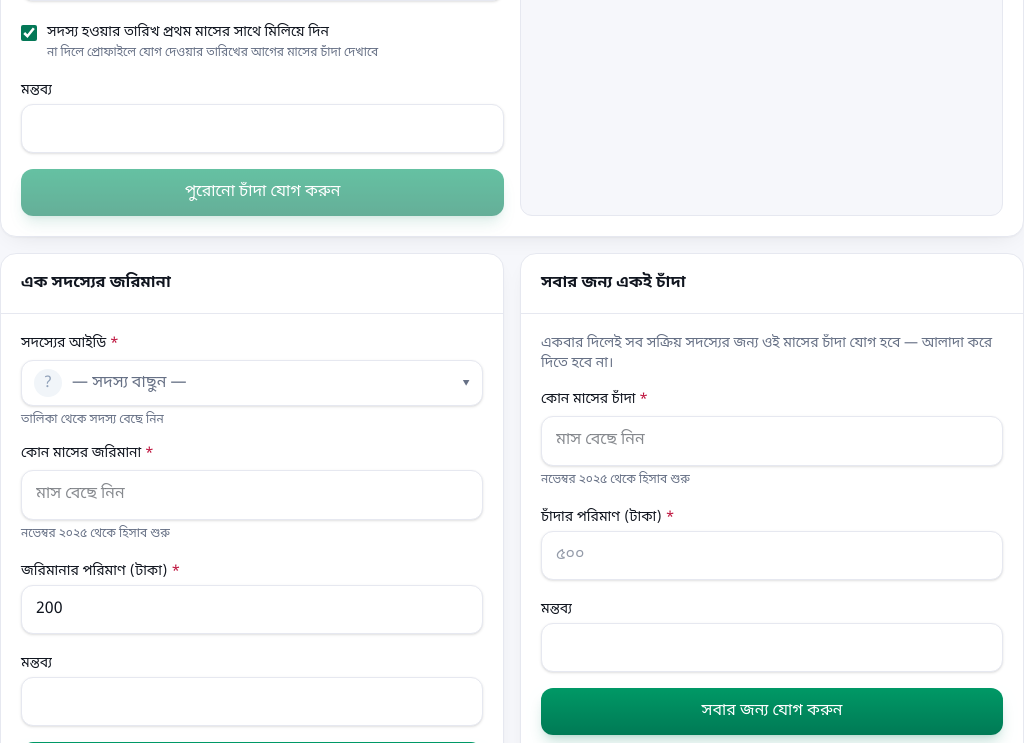
Test: historical import forms › lists every member, including deactivated ones
(page scrolled)
Click the dropdown named "সদস্যের আইডি".
click(129, 383)  # box [21,360,483,406]
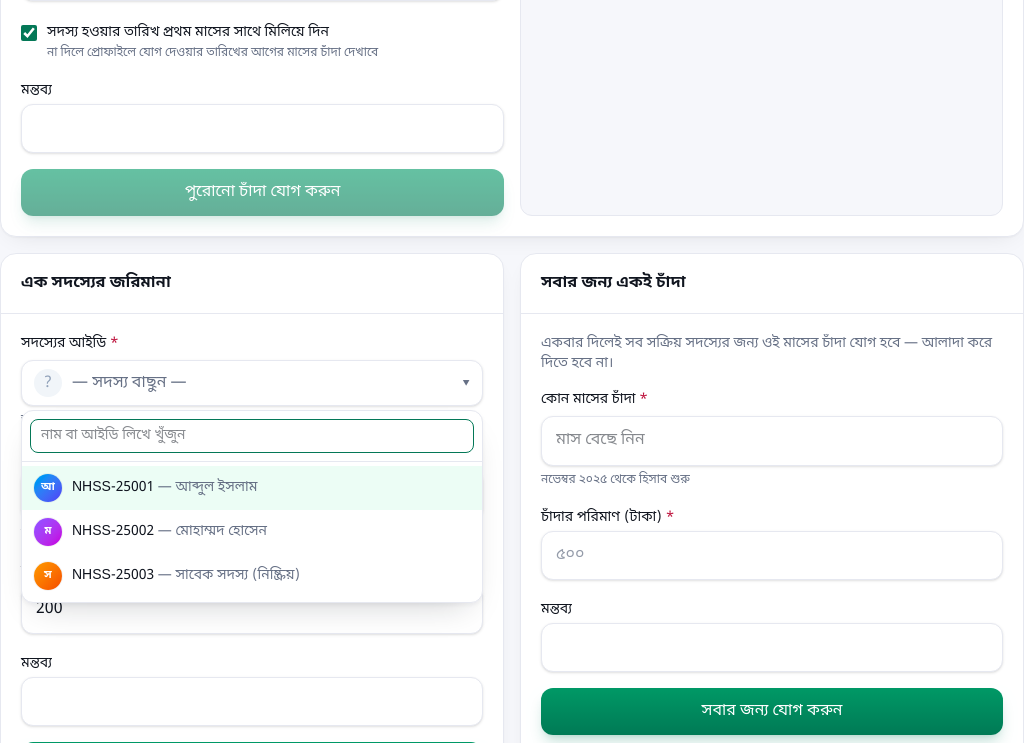
Check: the number of options is 3, box [22,466,482,510]; [34,518,267,546]; [34,562,300,590]
Check: the option "স NHSS-25003 — সাবেক সদস্য (নিষ্ক্রিয়)" is shown, box [34,562,300,590]
